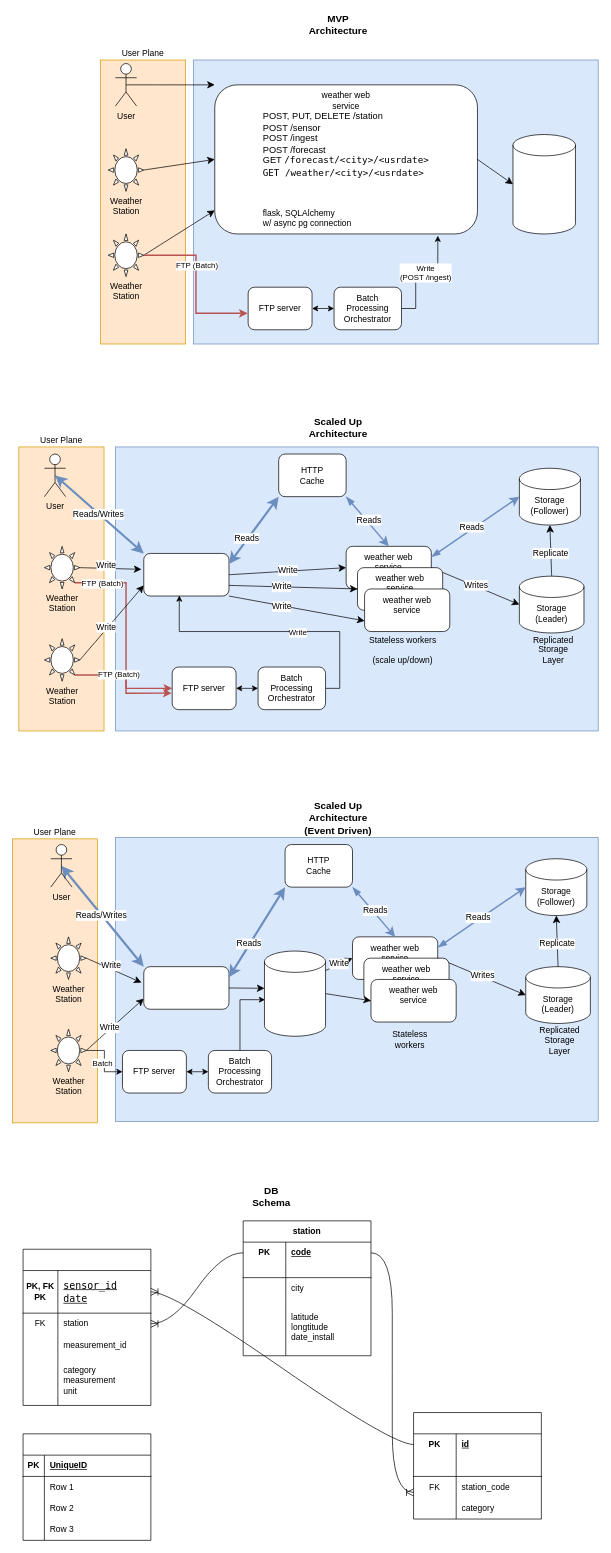
Some shapes in this 611 by 1553 pixel diagram are drawn without their labels. Here are the shapes that lost their labels. From the top down, the box of each, then its label:
(512, 134, 575, 234): Storage postgress w/ Timescale extension
(143, 553, 229, 596): API GW/ Load Balancer
(143, 966, 229, 1009): API GW
(264, 950, 326, 1036): Message Broker
(22, 1249, 151, 1405): measurement (Timescale hypetrable)
(413, 1412, 541, 1519): sensor
(22, 1433, 151, 1540): forecast
